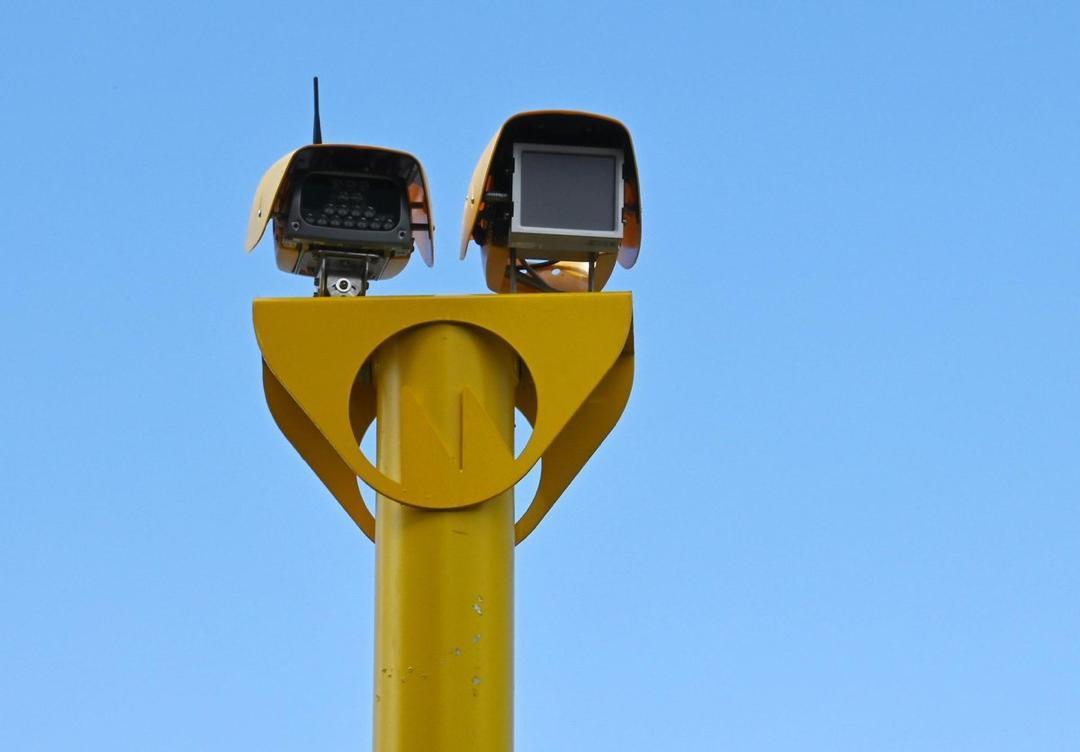Speed-Camera: (233, 51, 664, 300)
